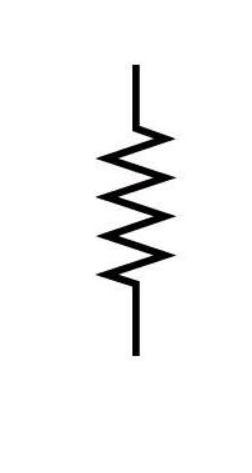resistor: (84, 79, 195, 335)
